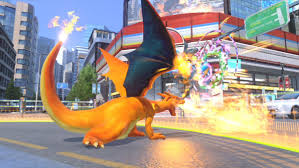charizard: (38, 1, 185, 151)
